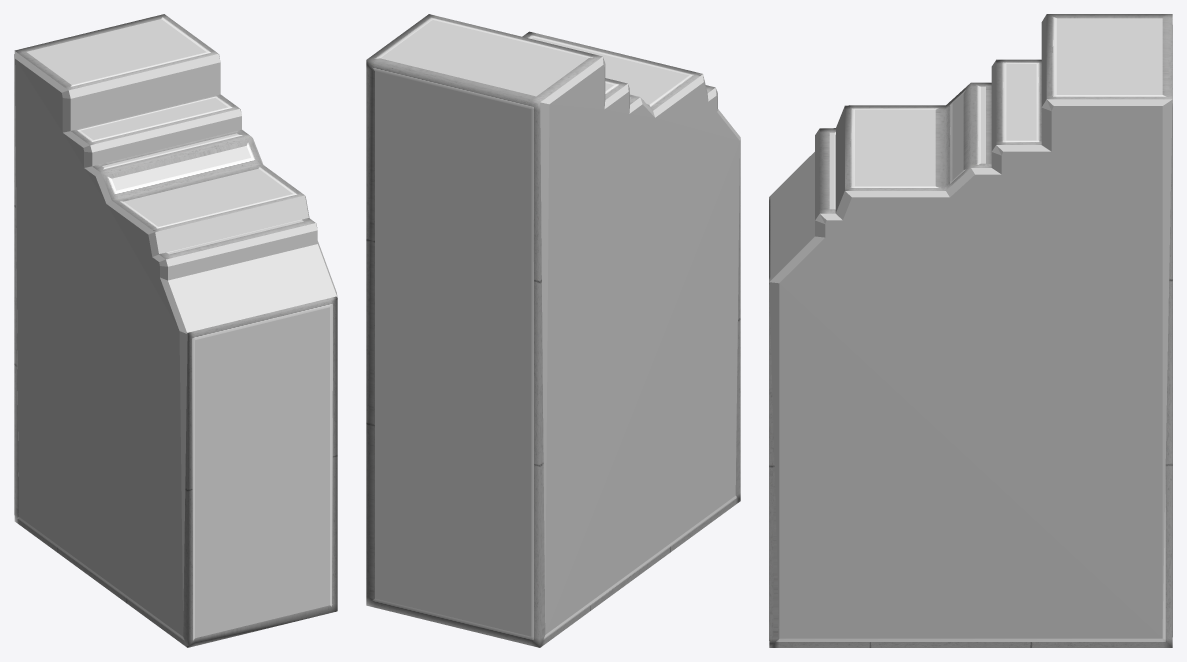
File: s_gm_crawl_02.dae
3 views of the same model, side by side, from view 1: azimuth 30°, elevation 25°; view 2: azimuth 150°, elevation 25°; view 3: azimuth 270°, elevation 25° (orthographic). The views are drawn at different scales.
Visible parts, largest first — view 1: Colmesh_crawl_02-1, crawl_02_a25, crawl_02_a200; view 2: crawl_02_a25, Colmesh_crawl_02-1, crawl_02_a200; view 3: Colmesh_crawl_02-1, crawl_02_a200, crawl_02_a25.
Boxes of the visible parts, left/top/right/bottom form: Colmesh_crawl_02-1: left=14, top=51, right=337, bottom=636; crawl_02_a25: left=18, top=19, right=329, bottom=638; crawl_02_a200: left=14, top=14, right=337, bottom=647; crawl_02_a25: left=375, top=20, right=688, bottom=636; Colmesh_crawl_02-1: left=540, top=56, right=740, bottom=634; crawl_02_a200: left=366, top=14, right=740, bottom=647; Colmesh_crawl_02-1: left=769, top=14, right=1172, bottom=638; crawl_02_a200: left=769, top=14, right=1172, bottom=647; crawl_02_a25: left=829, top=18, right=1162, bottom=209.
Bounding box in the file's own units: 2.1 × 4 × 6.
